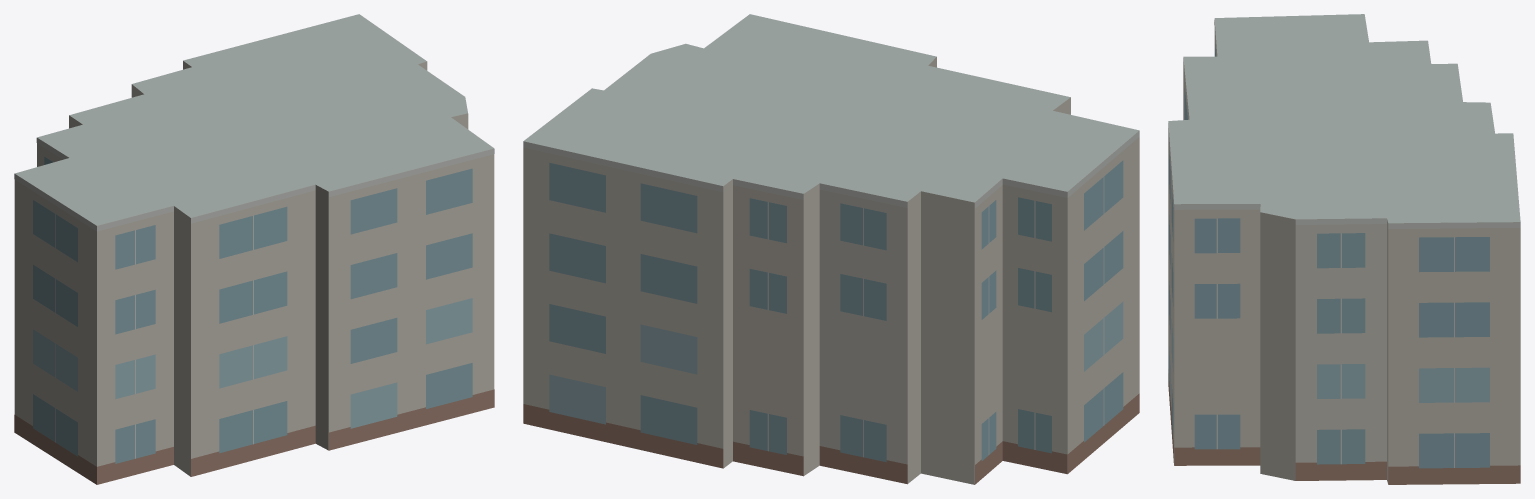
Rendered from survey-upis-32501348.glb.
3 views of the same model, side by side, from view 1: azimuth 30°, elevation 25°; view 2: azimuth 150°, elevation 25°; view 3: azimuth 270°, elevation 25° (orthographic). The views are drawn at different scales.
Visible parts, largest first — view 1: survey-upis-32501348.tmp; view 2: survey-upis-32501348.tmp; view 3: survey-upis-32501348.tmp.
Part boxes in pixels (<box>): survey-upis-32501348.tmp: <box>14,14,494,484</box>; survey-upis-32501348.tmp: <box>523,14,1139,484</box>; survey-upis-32501348.tmp: <box>1168,14,1520,484</box>.
Size of the model in its own units: 19.22 by 11.2 by 13.68.
